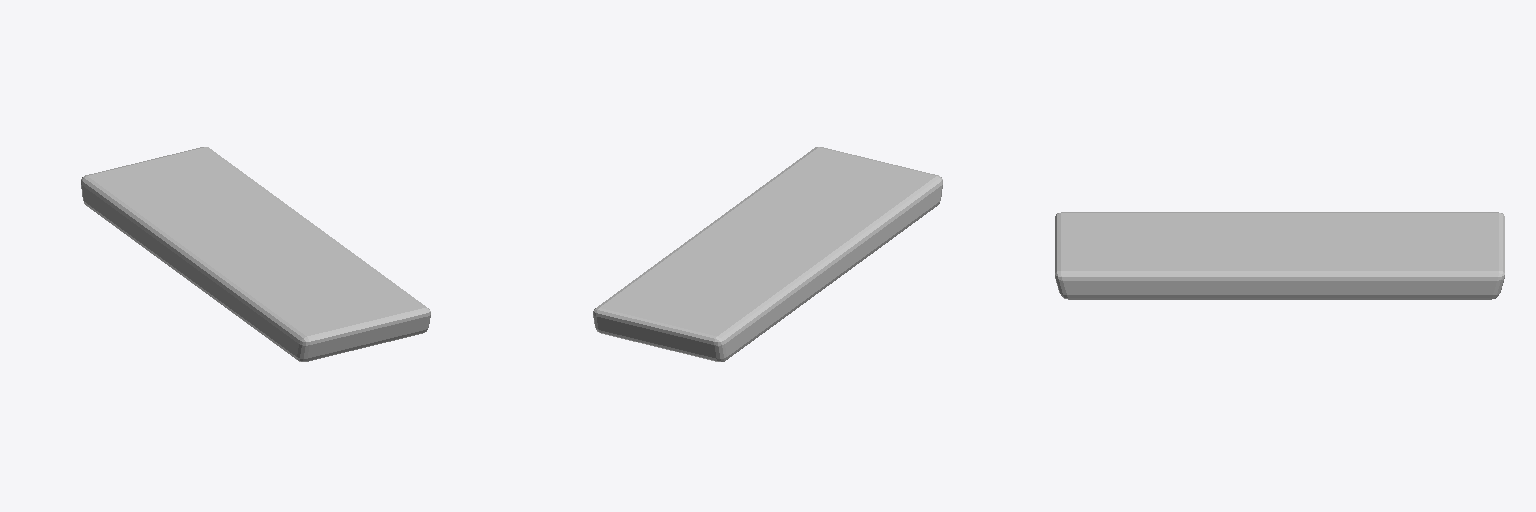
Rendered from remote.obj.
3 views of the same model, side by side, from view 1: azimuth 30°, elevation 25°; view 2: azimuth 150°, elevation 25°; view 3: azimuth 270°, elevation 25° (orthographic).
Visible parts, largest first — view 1: Cube; view 2: Cube; view 3: Cube.
Part boxes in pixels (x1,y1,x2,y2): Cube: (81,147,430,361); Cube: (593,147,942,361); Cube: (1055,212,1504,299).
Size of the model in its own units: 2 by 0.4123 by 5.95.